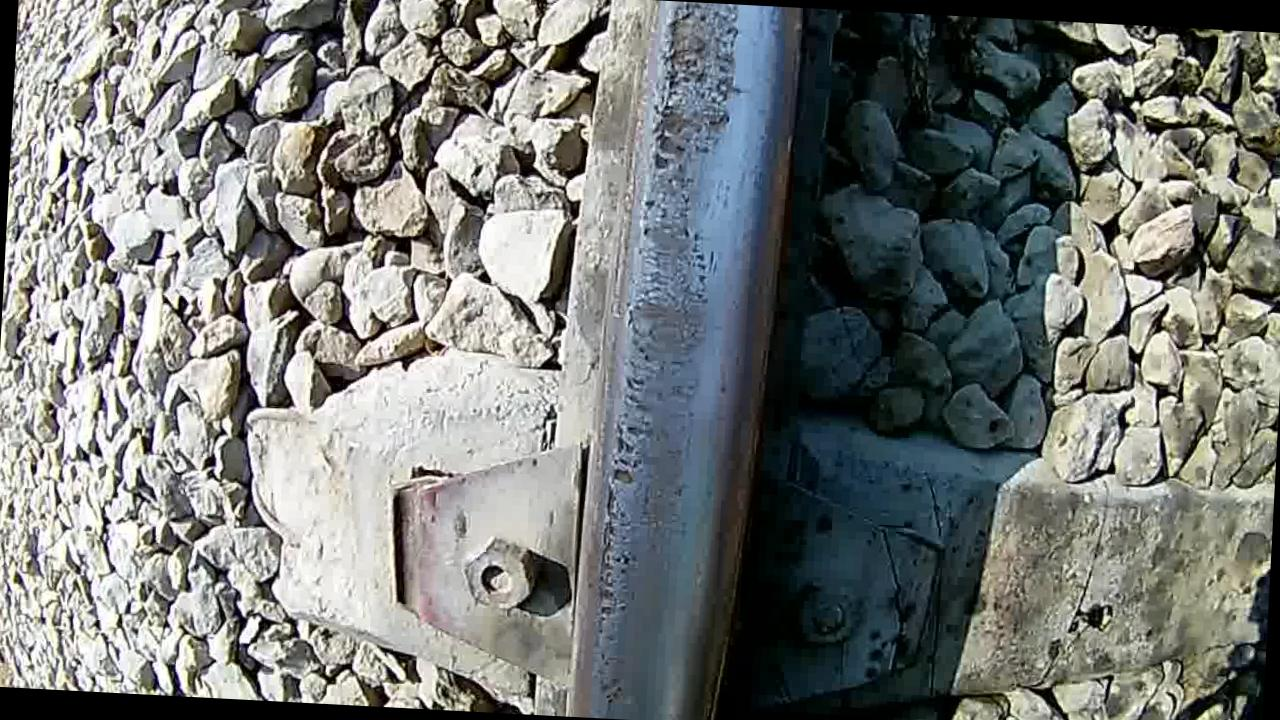crack: (583, 0, 776, 720)
